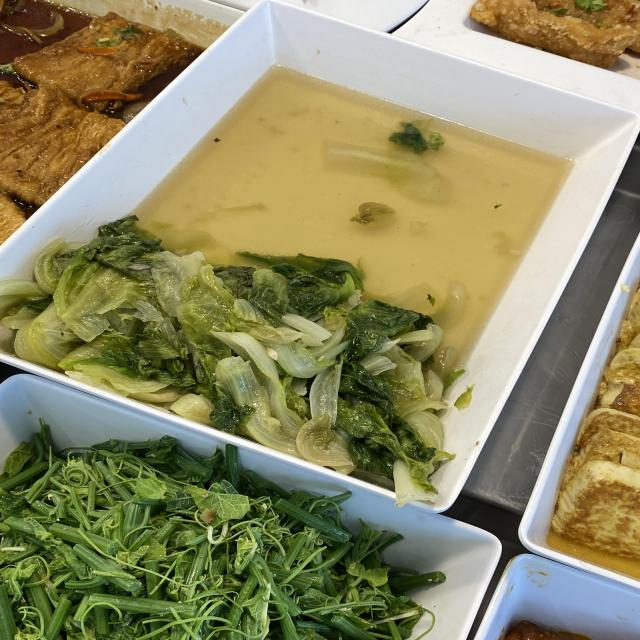Fushan-lettuce: (106, 240, 443, 386)
